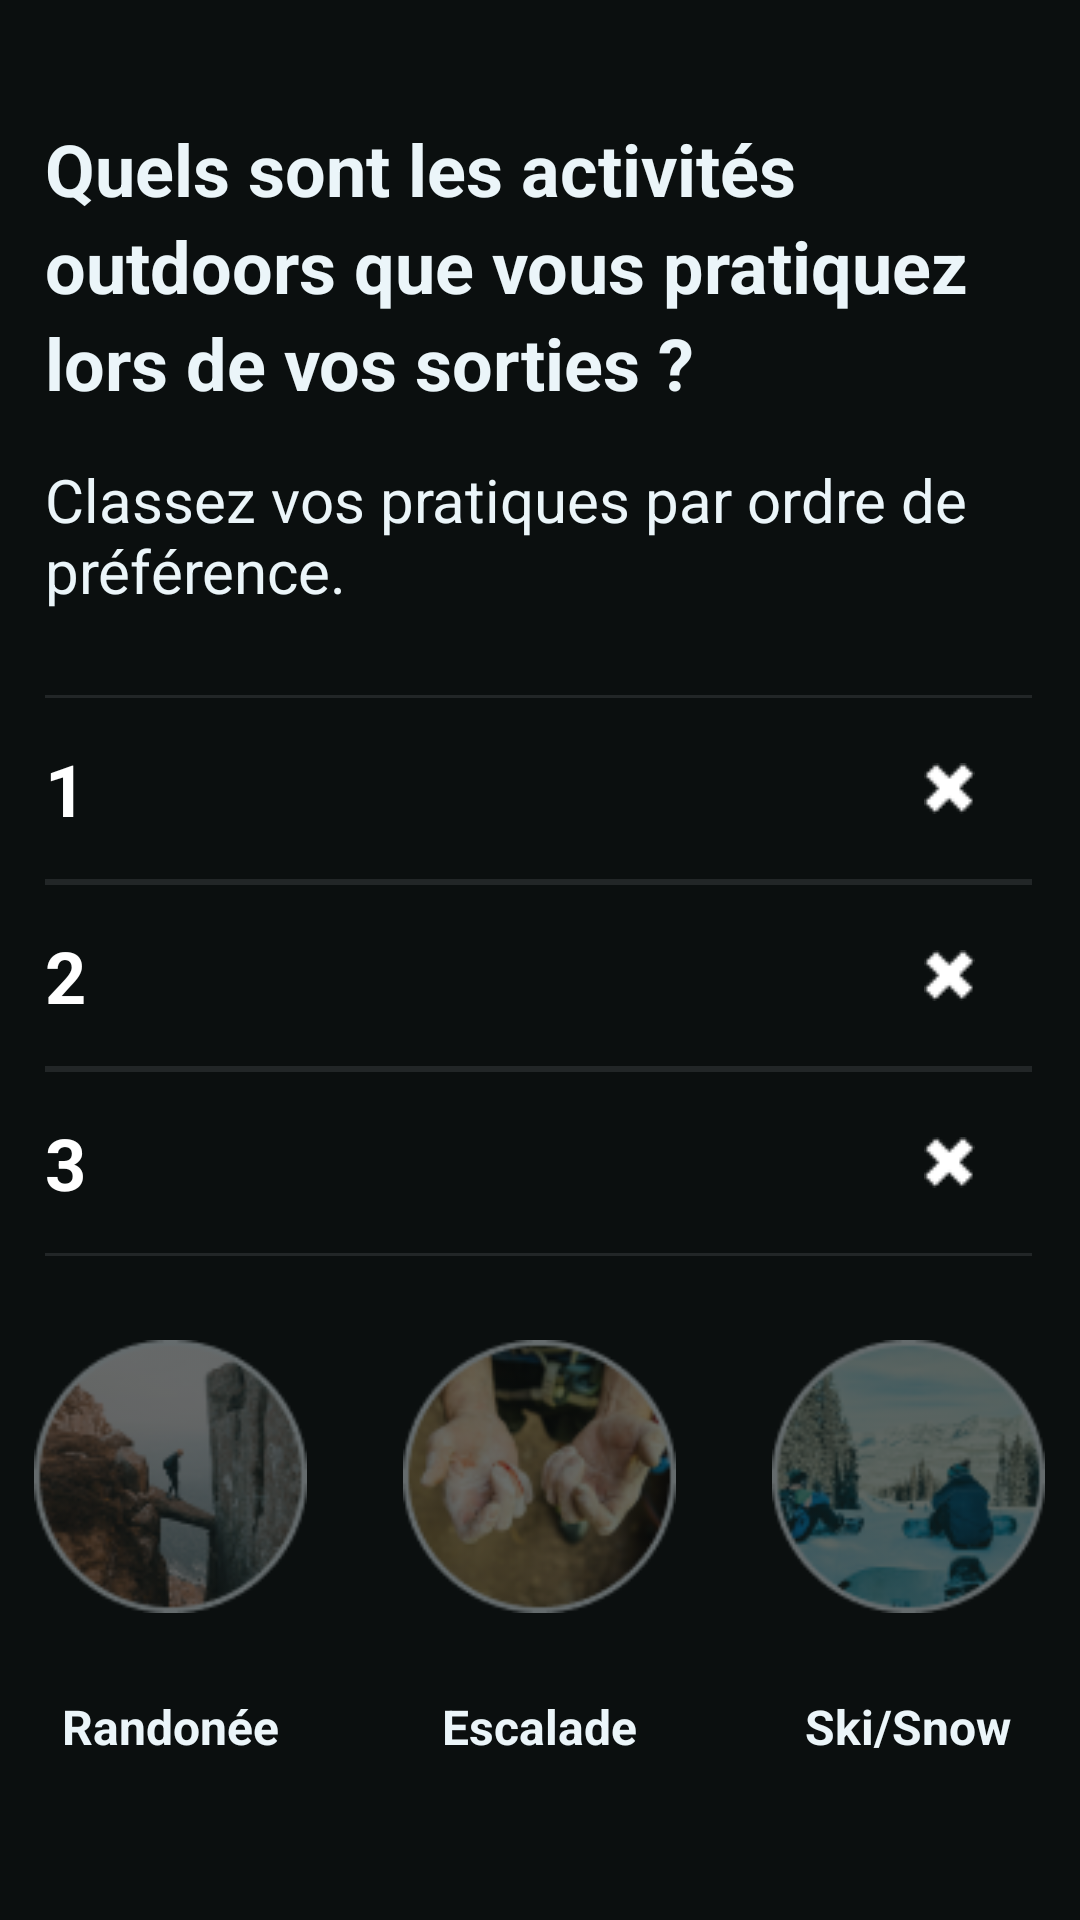

Icons on this 1080 × 1920 Android screen, each with its box as Rect(x1, y1, x2, y2):
delete: Rect(924, 763, 975, 814), Rect(924, 950, 975, 1001), Rect(924, 1137, 975, 1188)
